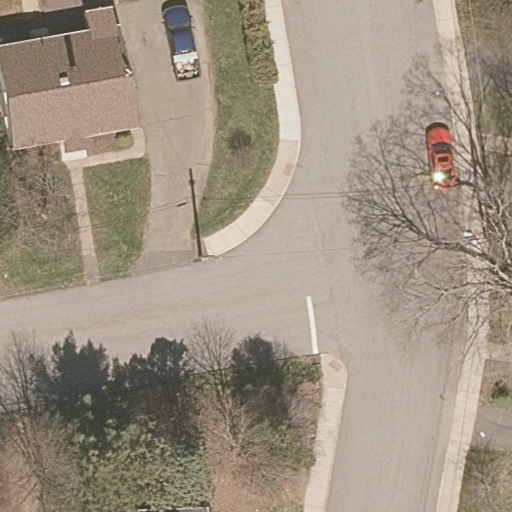DT: (190, 246, 226, 268)
